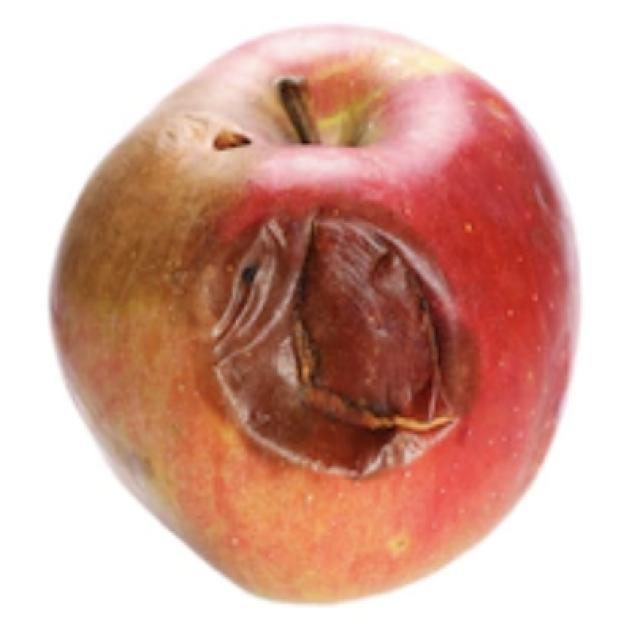Rotten: (60, 32, 603, 590)
